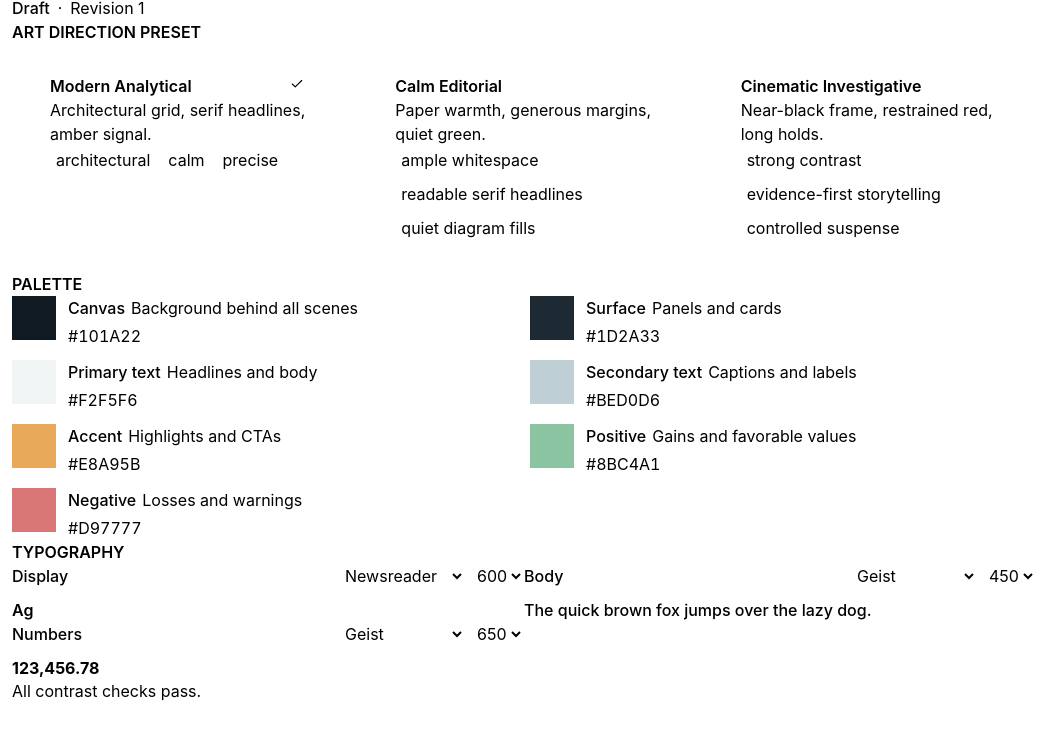
Test case: BrandAppearanceStudio › reflects typography changes in the active visual preview
Step 1. Select "Geist" in the dropdown named "Display Family" → coordinates (403, 576), box top-left (341, 565), bottom-right (465, 587)
(page scrolled)
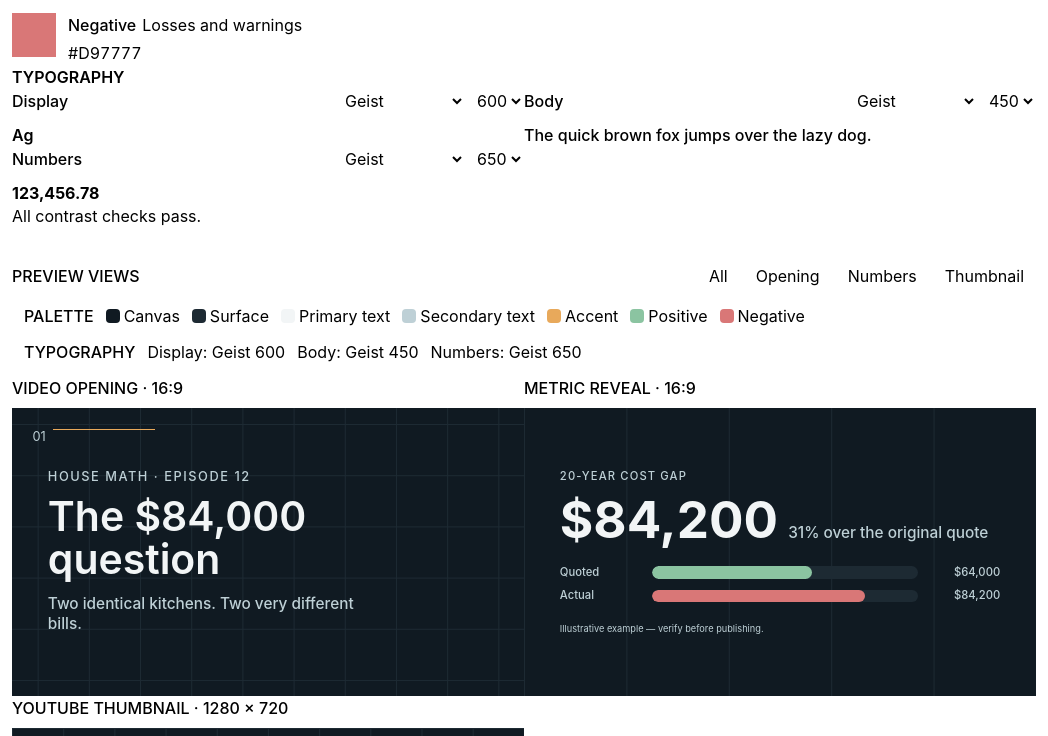
Expected: the element named "Active type styles" shows "Display: Geist 600", top-left (24, 342), bottom-right (582, 362)
